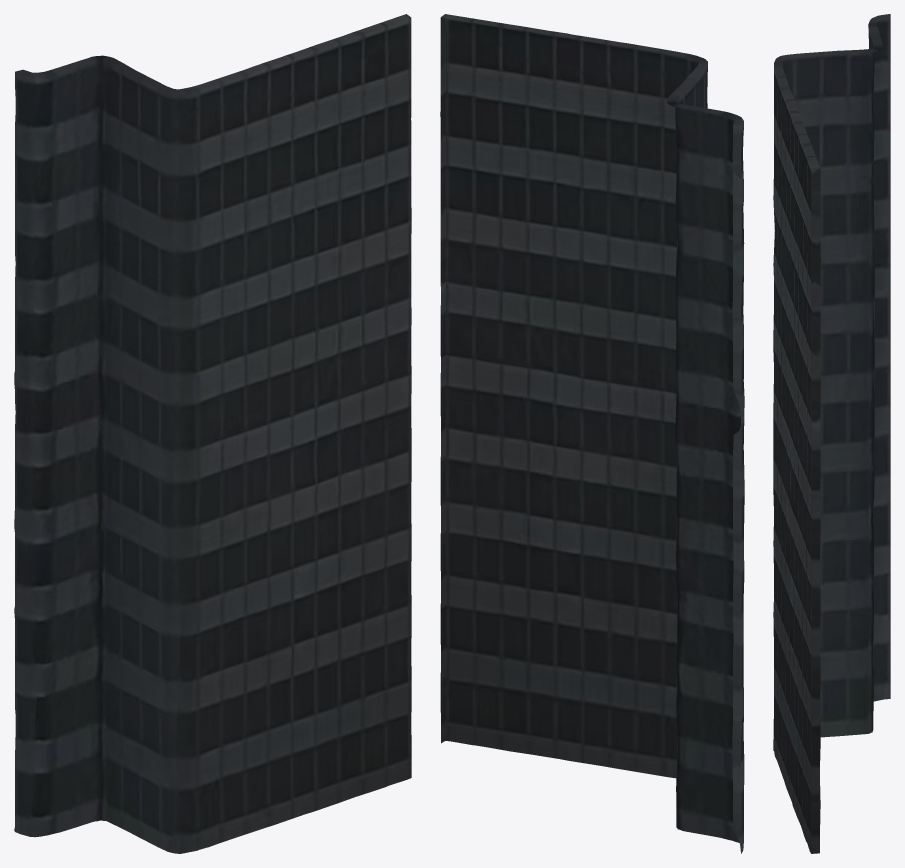
The model's file is z20-167776-405234-h1-yup-uvflip-v3-world.glb.
3 renders of one model, left to right at view 1: azimuth 30°, elevation 25°; view 2: azimuth 150°, elevation 25°; view 3: azimuth 270°, elevation 25°, orthographic. The views are drawn at different scales.
Size of the model in its own units: 20.6 by 42.32 by 6.56.
1 material, 1 textured.
